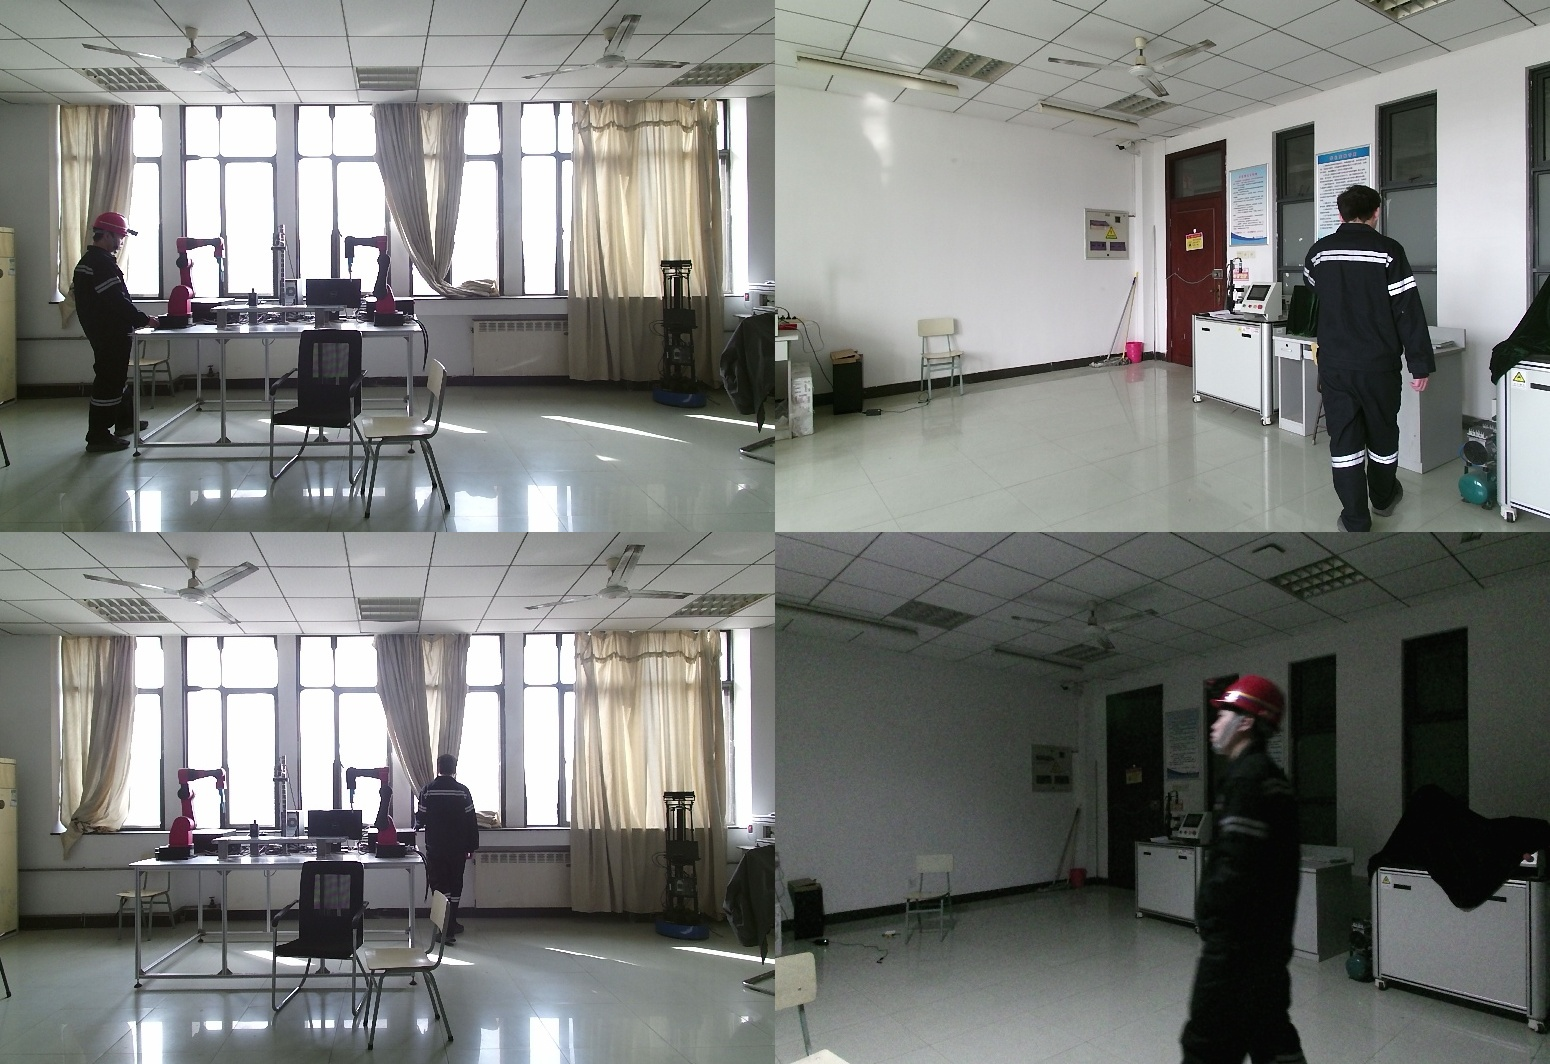person: (1183, 670, 1330, 1064), (1299, 189, 1450, 532), (71, 213, 161, 454), (414, 752, 483, 911)
